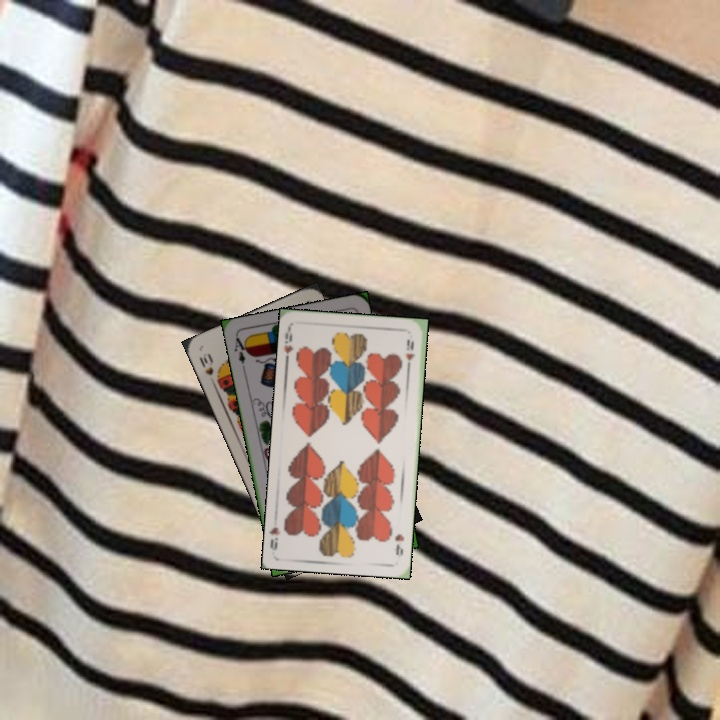EA: (230, 333, 251, 373)
H9: (280, 324, 296, 365), (391, 530, 406, 558)
S10: (195, 349, 216, 378)
